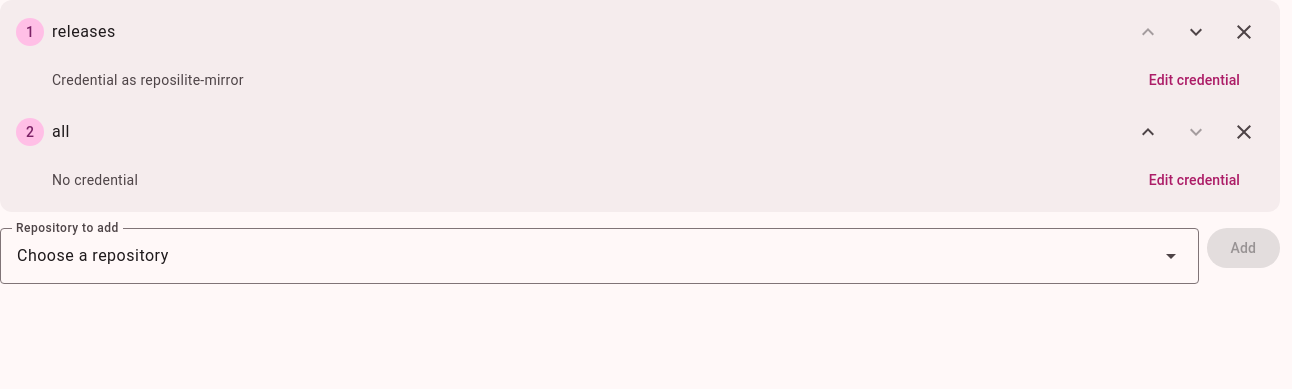
Scenario: RepositoryMembersPicker credentials of the members › opens the fields of a credential with a login and a password, and only one member at a time
Click the button "Edit credential" in the row of "Credential as reposilite-mirror" at (1194,80), box [1125,60,1264,100]
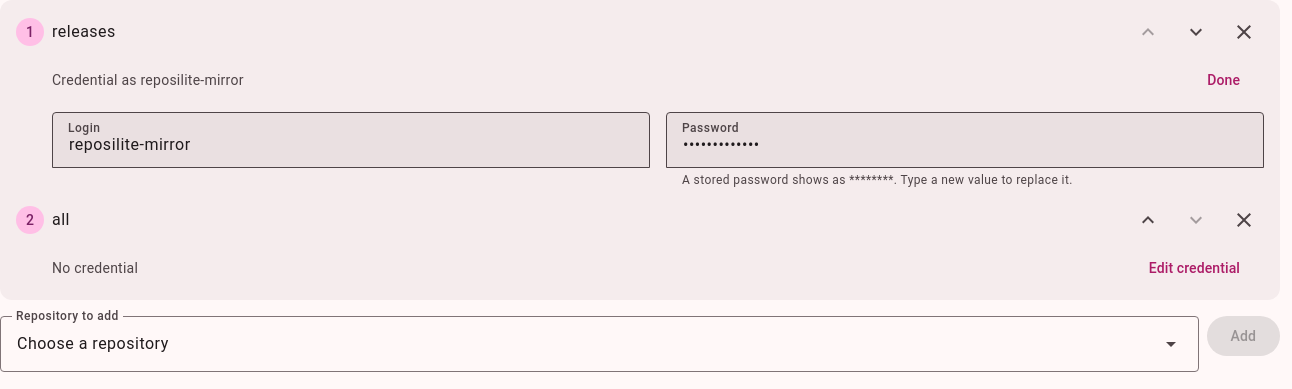
Expected: the field with id "members-login-0" holds "reposilite-mirror", [52,112,650,168]
